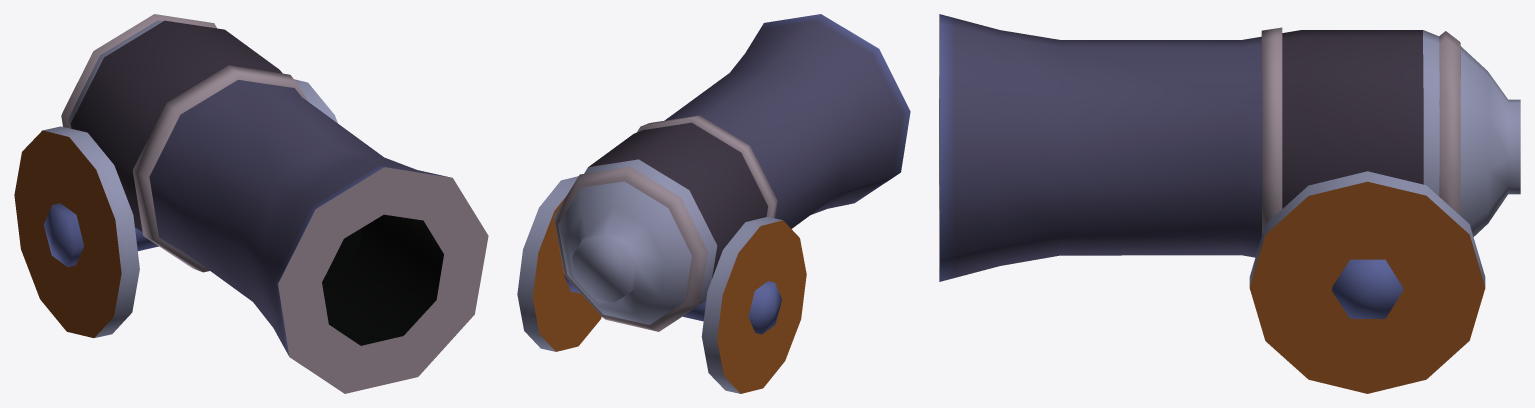
Rendered from Cannon.fbx.
3 views of the same model, side by side, from view 1: azimuth 30°, elevation 25°; view 2: azimuth 150°, elevation 25°; view 3: azimuth 270°, elevation 25° (orthographic). The views are drawn at different scales.
Parts seen in each view (by area): view 1: Cannon; view 2: Cannon; view 3: Cannon.
Boxes of the visible parts, left/top/right/bottom form: Cannon: left=14, top=14, right=488, bottom=393; Cannon: left=517, top=14, right=910, bottom=393; Cannon: left=939, top=14, right=1520, bottom=393.
Size of the model in its own units: 149 by 149 by 254.
Materials: 1 (1 with a texture image).
